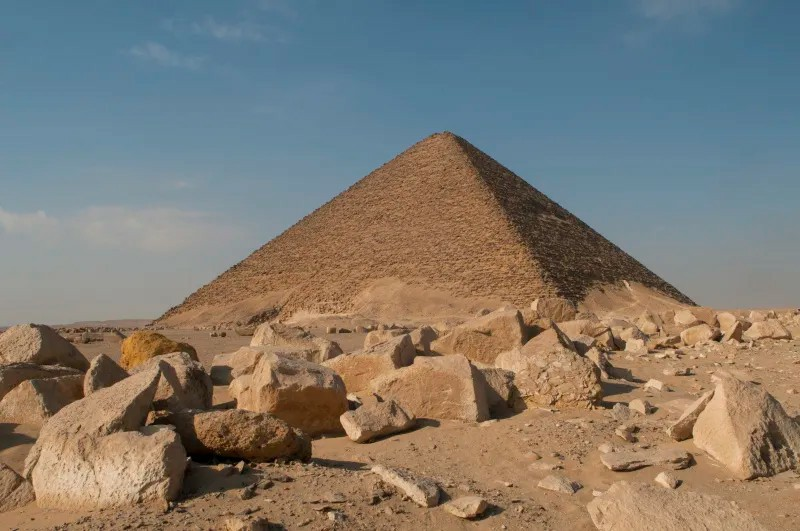Pyramid: (140, 131, 698, 330)
